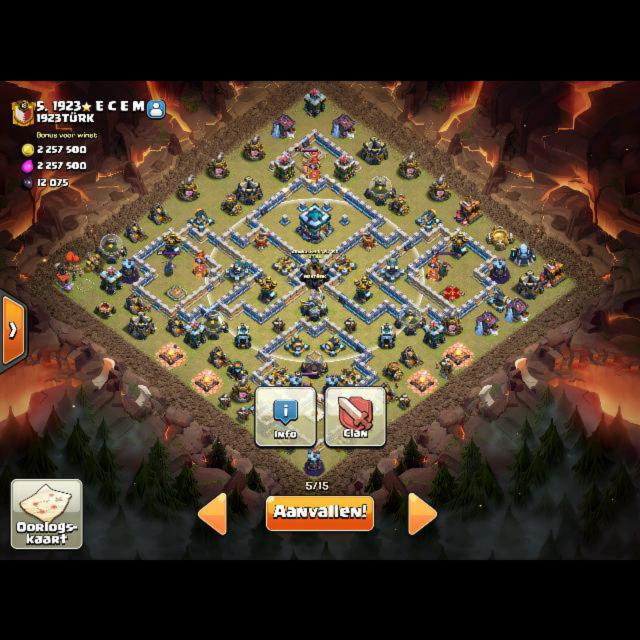AD: (448, 230, 468, 259), (161, 230, 181, 259), (353, 275, 373, 304), (257, 275, 277, 304)
AirSweeper: (358, 226, 376, 251), (251, 226, 269, 250)
BombTower: (378, 321, 395, 348), (234, 322, 251, 349)
Canon: (186, 207, 214, 231), (414, 208, 442, 231), (283, 332, 309, 356), (319, 334, 345, 357), (486, 290, 513, 312), (248, 396, 274, 418), (357, 396, 382, 418)
ClanCastle: (300, 256, 329, 289)
Eagle: (300, 286, 328, 321)
Inferno: (306, 155, 323, 183), (192, 250, 208, 276), (426, 255, 442, 281)
KingPad: (304, 144, 326, 161)
Mortar: (220, 193, 242, 216), (387, 193, 409, 215), (382, 360, 404, 381), (226, 360, 248, 381)
QueenPad: (440, 283, 464, 301)
RcPad: (168, 285, 187, 299)
Scattershot: (380, 257, 404, 283), (224, 257, 248, 283)
TH13: (299, 202, 332, 243)
WardenPad: (304, 405, 324, 421)
WizzTower: (323, 373, 342, 400), (287, 373, 306, 399), (305, 449, 324, 475), (490, 256, 509, 282), (119, 256, 138, 282)
Xbow: (337, 365, 363, 388), (331, 253, 357, 276), (271, 253, 297, 276), (265, 365, 291, 387)
